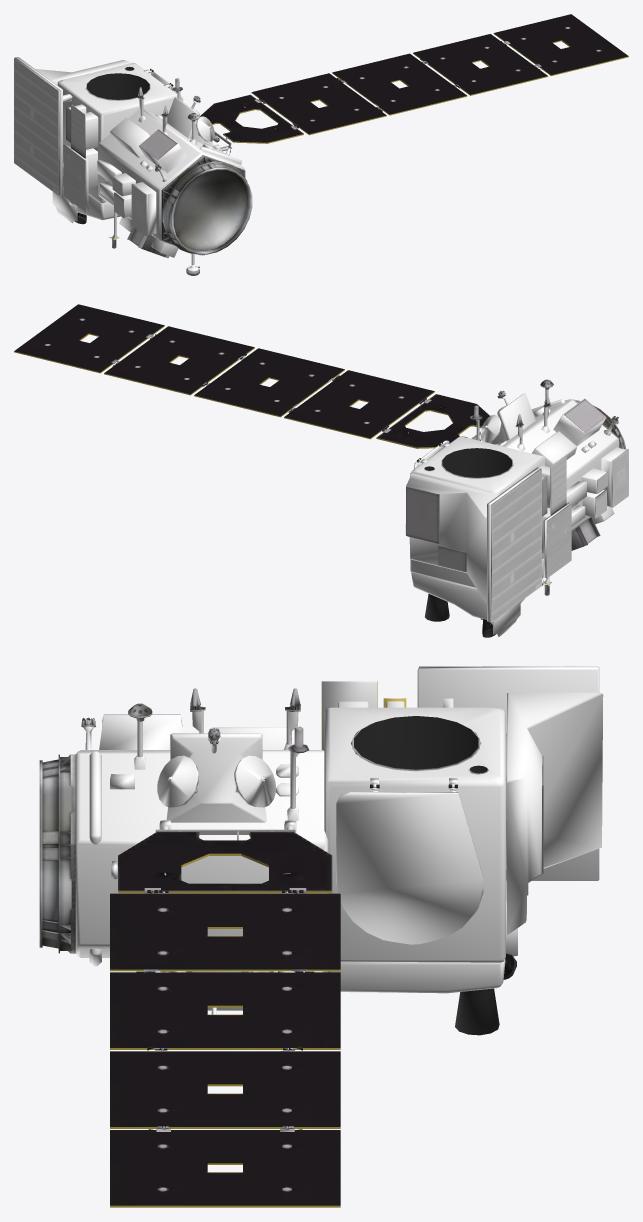
Rendered from icesat-2.glb.
3 views of the same model, one above another, from view 1: azimuth 30°, elevation 25°; view 2: azimuth 150°, elevation 25°; view 3: azimuth 270°, elevation 25° (orthographic). The views are drawn at different scales.
Visible parts, largest first — view 1: instruments, BUS, Atlas scope; view 2: instruments, BUS, Atlas scope; view 3: BUS, instruments, Atlas scope.
Boxes of the visible parts, <box> form: instruments: <box>14,14,628,275</box>; BUS: <box>15,57,244,271</box>; Atlas scope: <box>85,41,541,152</box>; instruments: <box>14,304,628,637</box>; BUS: <box>405,389,626,636</box>; Atlas scope: <box>111,334,513,478</box>; BUS: <box>75,666,603,1014</box>; instruments: <box>39,666,564,1207</box>; Atlas scope: <box>136,716,488,1131</box>.
Bounding box in the file's own units: 1 × 0.3153 × 0.4948.
Materials: 8 (1 with a texture image).
